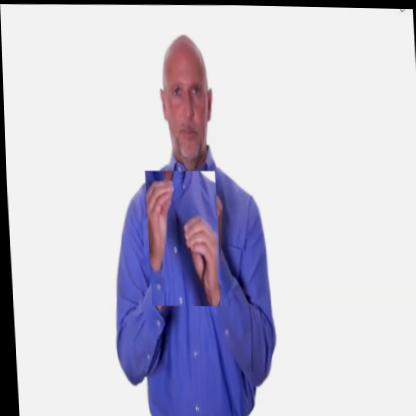Fix: (143, 168, 219, 306)
